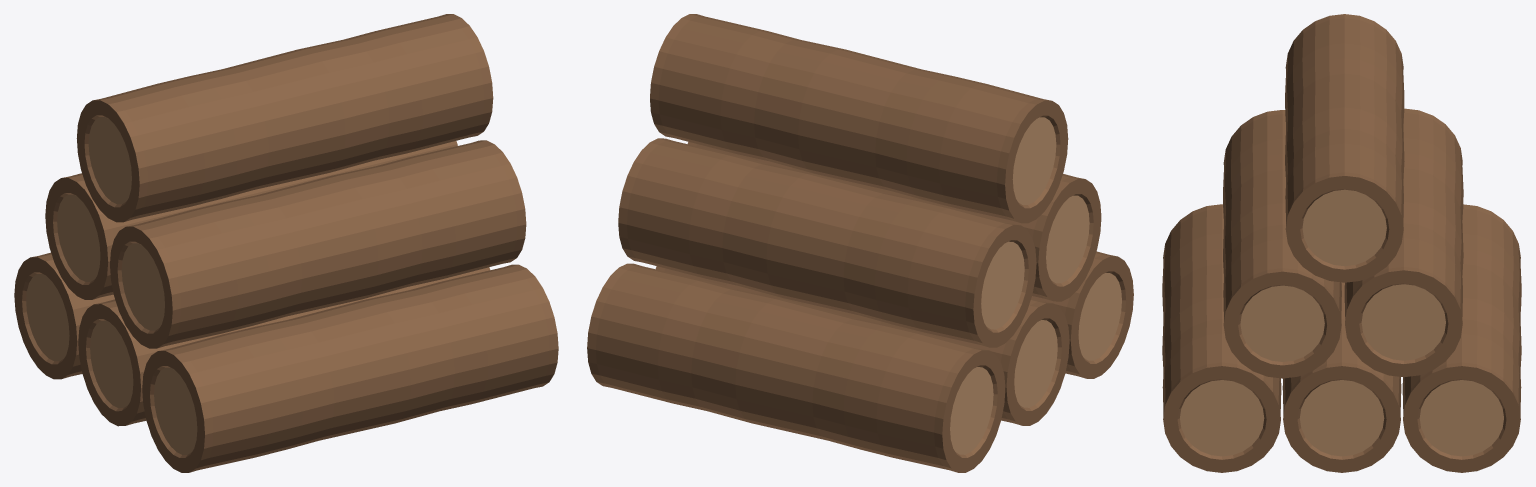
File: env-wood-grouped.fbx
3 renders of one model, left to right at view 1: azimuth 30°, elevation 25°; view 2: azimuth 150°, elevation 25°; view 3: azimuth 270°, elevation 25°, orthographic. The views are drawn at different scales.
Visible parts, largest first — view 1: Cylinder.258; view 2: Cylinder.258; view 3: Cylinder.258.
Part boxes in pixels (x1,y1,x2,y2): Cylinder.258: [14, 14, 558, 472]; Cylinder.258: [587, 14, 1133, 472]; Cylinder.258: [1162, 14, 1521, 472].
Size of the model in its own units: 87.13 by 74.97 by 81.79.
